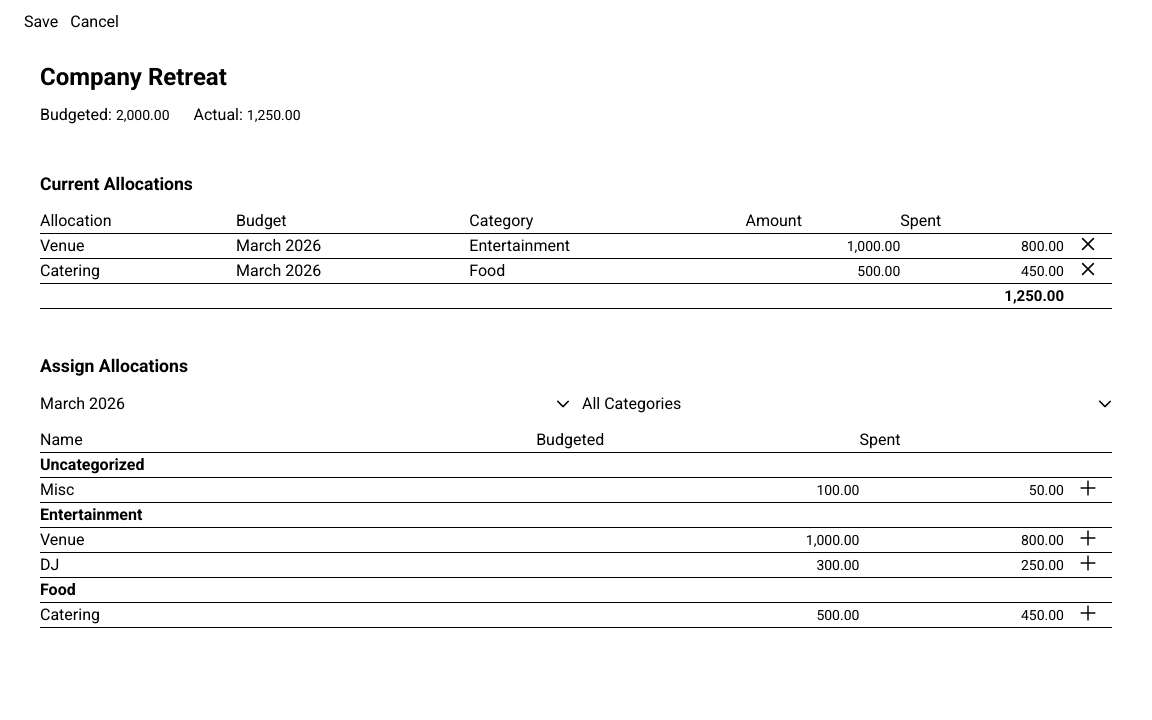
it: SpecialEventAllocationsEditor › add allocation › adds the allocation to the current allocations list
This screenshot has width=1152, height=720.
Click the button with test id "add-btn-12" at (1088, 563), box [1080,553,1096,572]
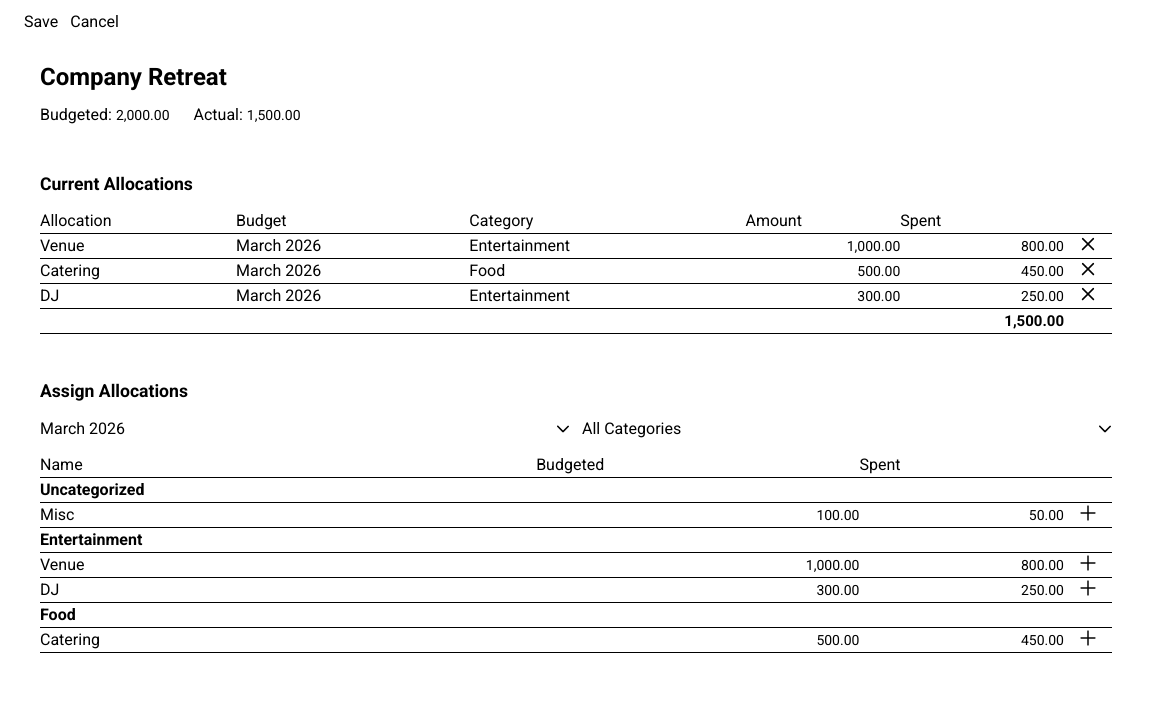
expect the element with test id "current-allocations-table" shows "DJ": met, box [40,286,59,305]
